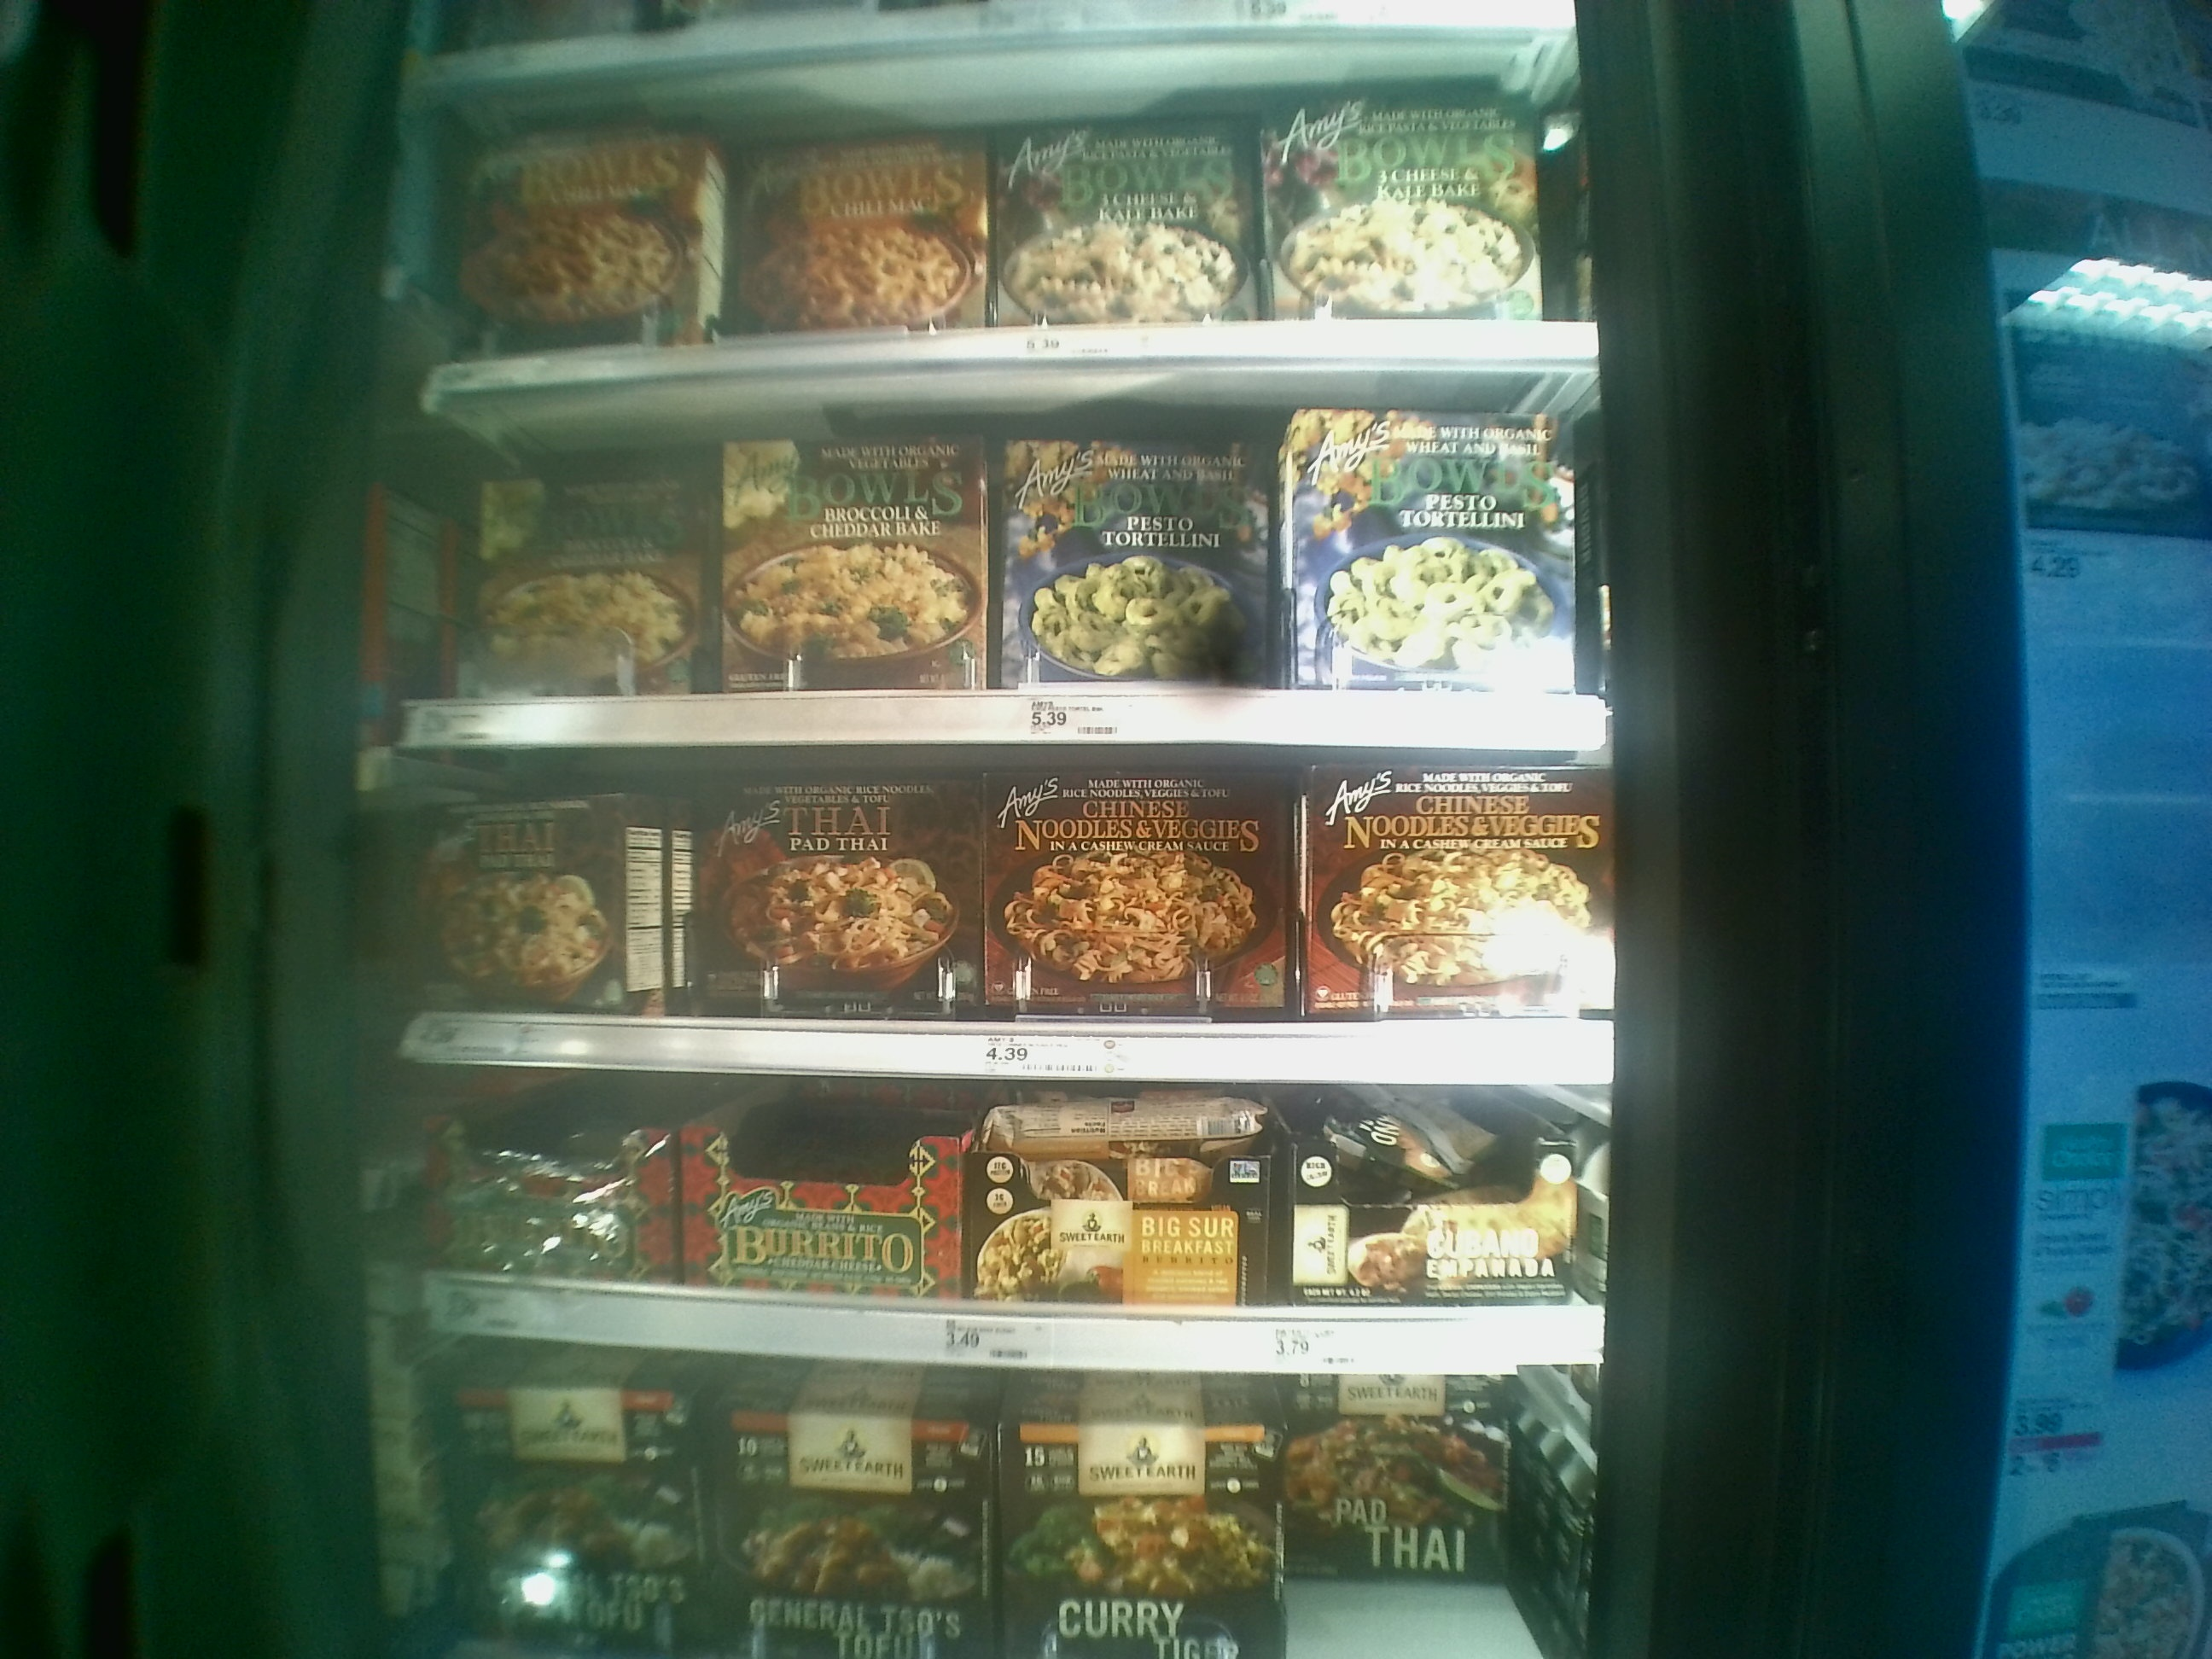frozen-food-shelf: (380, 387, 1629, 753), (369, 748, 1629, 1087), (383, 82, 1622, 385), (371, 1089, 1641, 1378)
